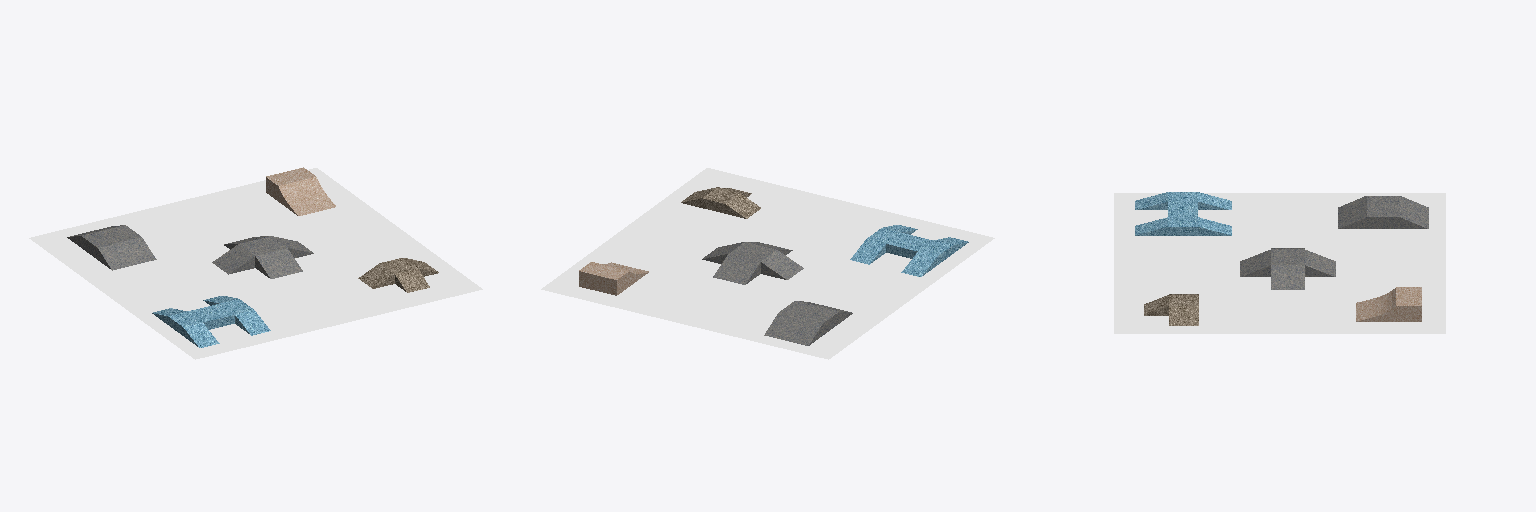
3 views of the same model, side by side, from view 1: azimuth 30°, elevation 25°; view 2: azimuth 150°, elevation 25°; view 3: azimuth 270°, elevation 25° (orthographic).
Visible parts, largest first — view 1: obj6, obj2, obj3, obj1, obj5, obj4; view 2: obj6, obj2, obj3, obj1, obj5, obj4; view 3: obj6, obj2, obj3, obj1, obj5, obj4.
Part boxes in pixels (bbox=[...]): obj6: bbox=[29, 168, 482, 359]; obj2: bbox=[152, 296, 270, 347]; obj3: bbox=[212, 236, 313, 278]; obj1: bbox=[67, 225, 156, 270]; obj5: bbox=[266, 167, 335, 215]; obj4: bbox=[358, 258, 438, 292]; obj6: bbox=[541, 168, 994, 359]; obj2: bbox=[850, 225, 968, 276]; obj3: bbox=[702, 242, 803, 284]; obj1: bbox=[764, 301, 852, 345]; obj5: bbox=[579, 262, 648, 295]; obj4: bbox=[681, 187, 760, 218]; obj6: bbox=[1114, 193, 1445, 333]; obj2: bbox=[1135, 192, 1231, 235]; obj3: bbox=[1240, 248, 1335, 289]; obj1: bbox=[1338, 196, 1428, 228]; obj5: bbox=[1356, 287, 1421, 321]; obj4: bbox=[1144, 294, 1198, 325].
Bounding box in the file's own units: 150 × 7.86 × 150.
Materials: 5 (4 with a texture image).